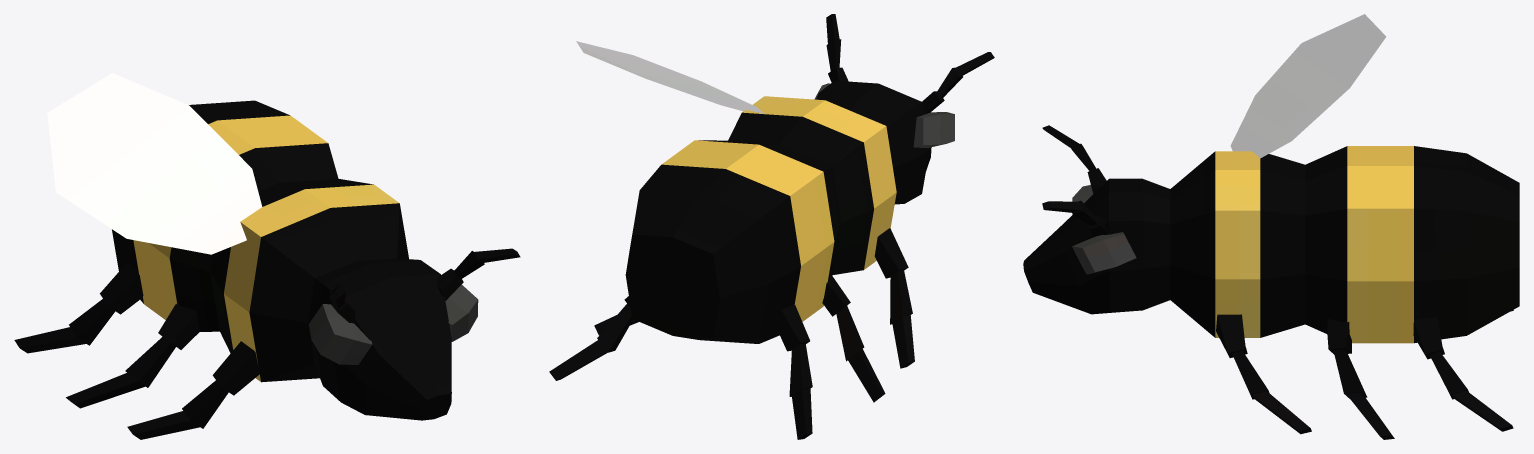
The model's file is bee.glb.
3 renders of one model, left to right at view 1: azimuth 30°, elevation 25°; view 2: azimuth 150°, elevation 25°; view 3: azimuth 270°, elevation 25°, orthographic. The views are drawn at different scales.
Parts seen in each view (by area): view 1: Cube.001_Cube.017; view 2: Cube.001_Cube.017; view 3: Cube.001_Cube.017.
Part boxes in pixels (x1,y1,x2,y2): Cube.001_Cube.017: (14, 73, 520, 439); Cube.001_Cube.017: (549, 14, 994, 439); Cube.001_Cube.017: (1023, 14, 1519, 439).
Size of the model in its own units: 0.0921 by 0.0637 by 0.1.
Materials: 1 (1 with a texture image).
